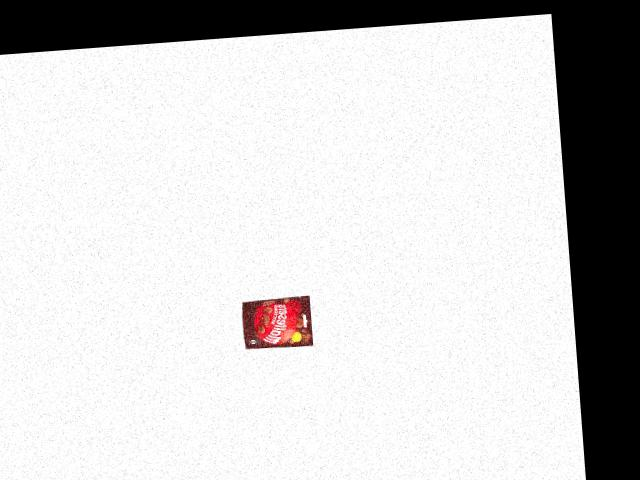chocolate: (239, 294, 314, 351)
